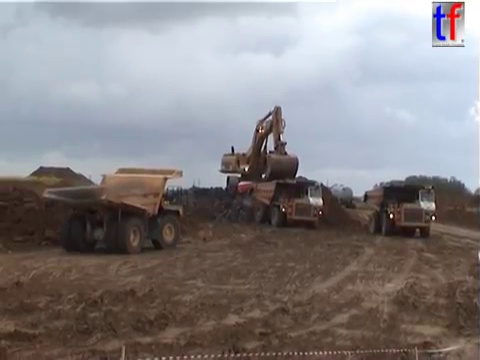excavator: (216, 103, 311, 201), (225, 175, 300, 202)
truck: (41, 165, 185, 255), (362, 181, 437, 238), (249, 176, 324, 230), (322, 182, 355, 210)
